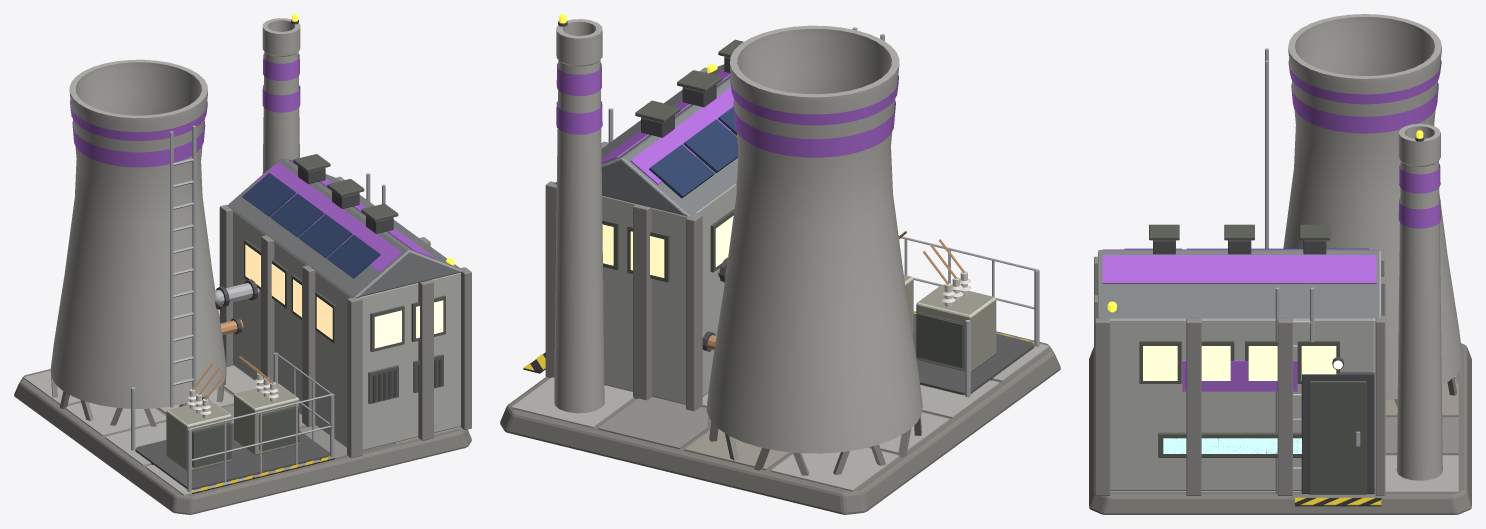
Rendered from power_plant_purple.glb.
3 views of the same model, side by side, from view 1: azimuth 30°, elevation 25°; view 2: azimuth 150°, elevation 25°; view 3: azimuth 270°, elevation 25° (orthographic). The views are drawn at different scales.
Visible parts, largest first — view 1: Body; view 2: Body; view 3: Body.
Part boxes in pixels (x1=…): Body: x1=14, y1=14, x2=471, y2=514; Body: x1=500, y1=14, x2=1060, y2=514; Body: x1=1089, y1=14, x2=1471, y2=514.
Bounding box in the file's own units: 4.18 × 4.21 × 3.98.
Materials: 1 (1 with a texture image).
